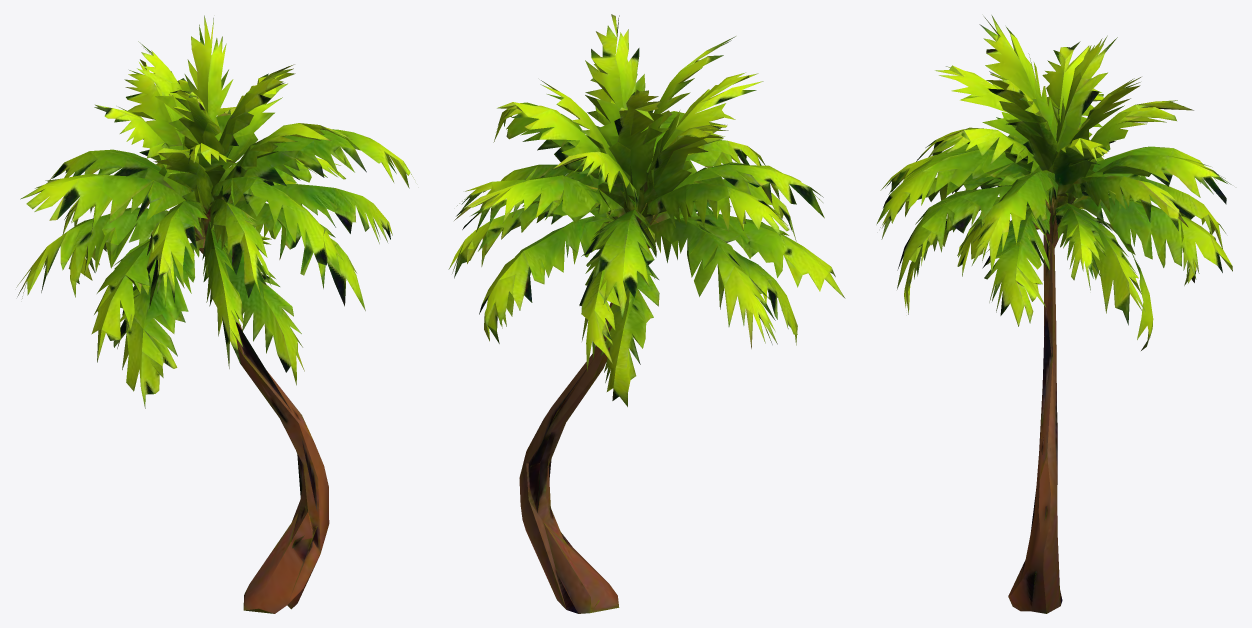
The model's file is palm-leaning.lod.glb.
3 views of the same model, side by side, from view 1: azimuth 30°, elevation 25°; view 2: azimuth 150°, elevation 25°; view 3: azimuth 270°, elevation 25° (orthographic). The views are drawn at different scales.
Size of the model in its own units: 1.18 by 1.89 by 1.16.
Materials: 1 (1 with a texture image).
